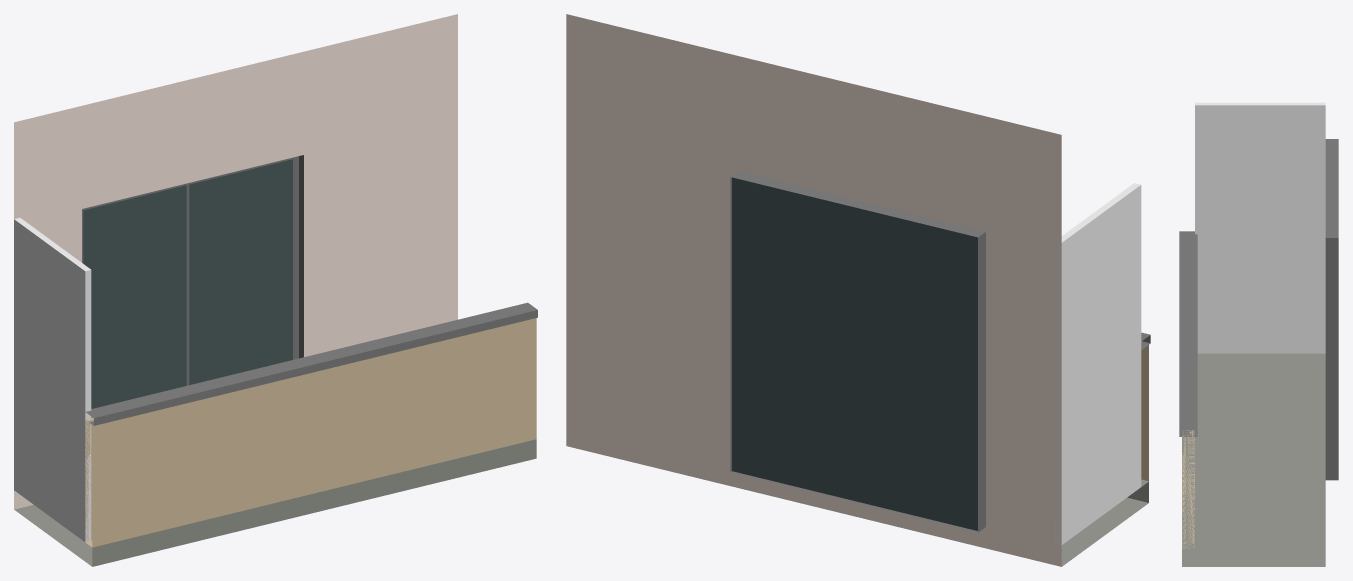
Rendered from mid-w1.fbx.
The picture shows the model from 3 angles, left to right: view 1: azimuth 30°, elevation 25°; view 2: azimuth 150°, elevation 25°; view 3: azimuth 270°, elevation 25°; orthographic projection. The views are drawn at different scales.
Parts seen in each view (by area): view 1: a2001/200/mid-w1; view 2: a2001/200/mid-w1; view 3: a2001/200/mid-w1.
Boxes of the visible parts, x1,y1,x2,y2 form: a2001/200/mid-w1: [14, 14, 537, 566]; a2001/200/mid-w1: [566, 14, 1150, 566]; a2001/200/mid-w1: [1179, 102, 1338, 566].
Size of the model in its own units: 3.6 by 3 by 1.22.
